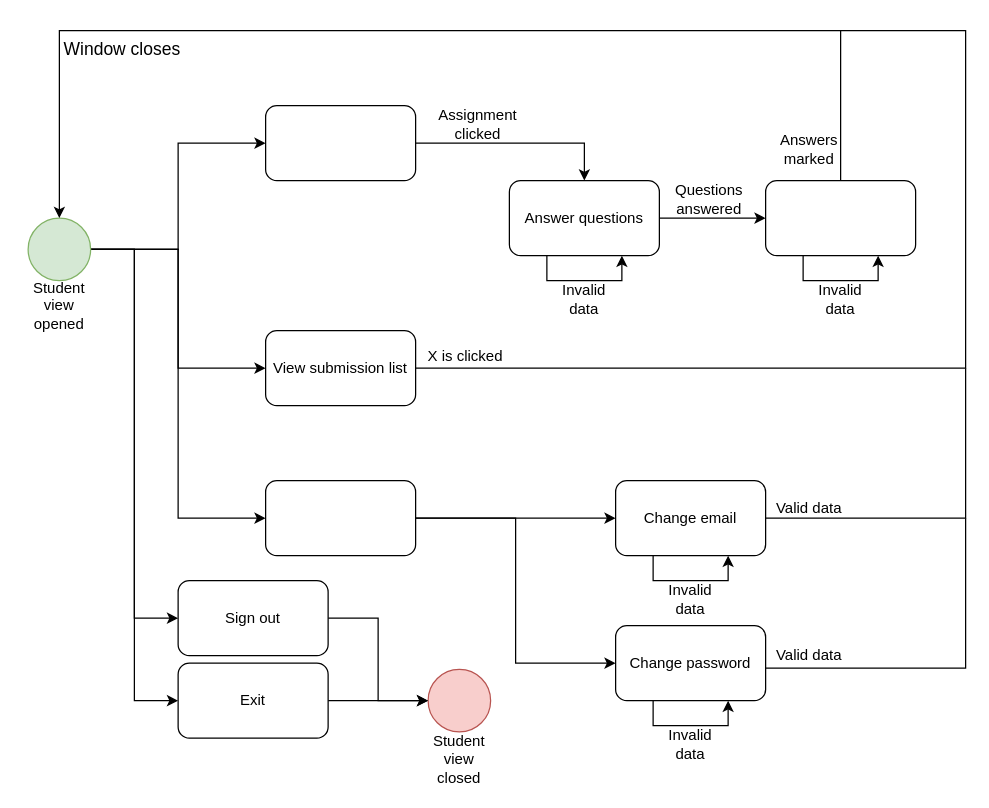
This 989x808 diagram has some shape labels left out. The shapes that lost their labels are listed below. From the top down, each one's centre as x and y in pixels, then its label:
At pixel 340 142: "Assignment list".
At pixel 840 217: "Mark answers".
At pixel 340 517: "Settings".
